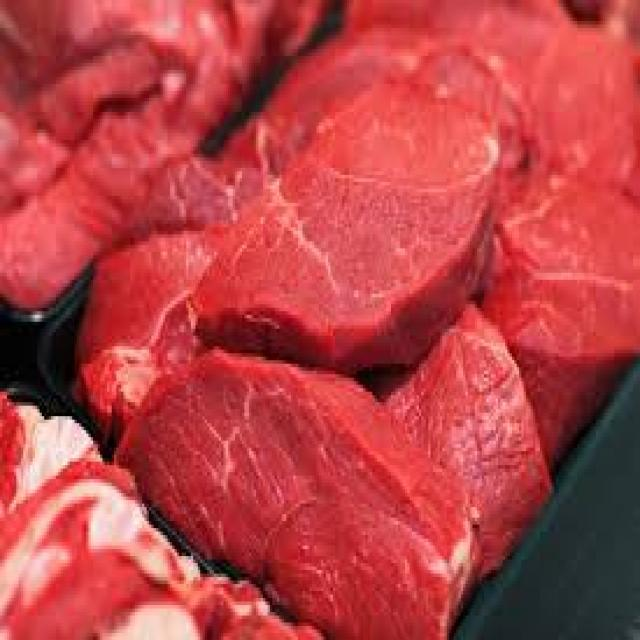Wet: (0, 0, 640, 640), (0, 360, 562, 640), (194, 33, 556, 368)
